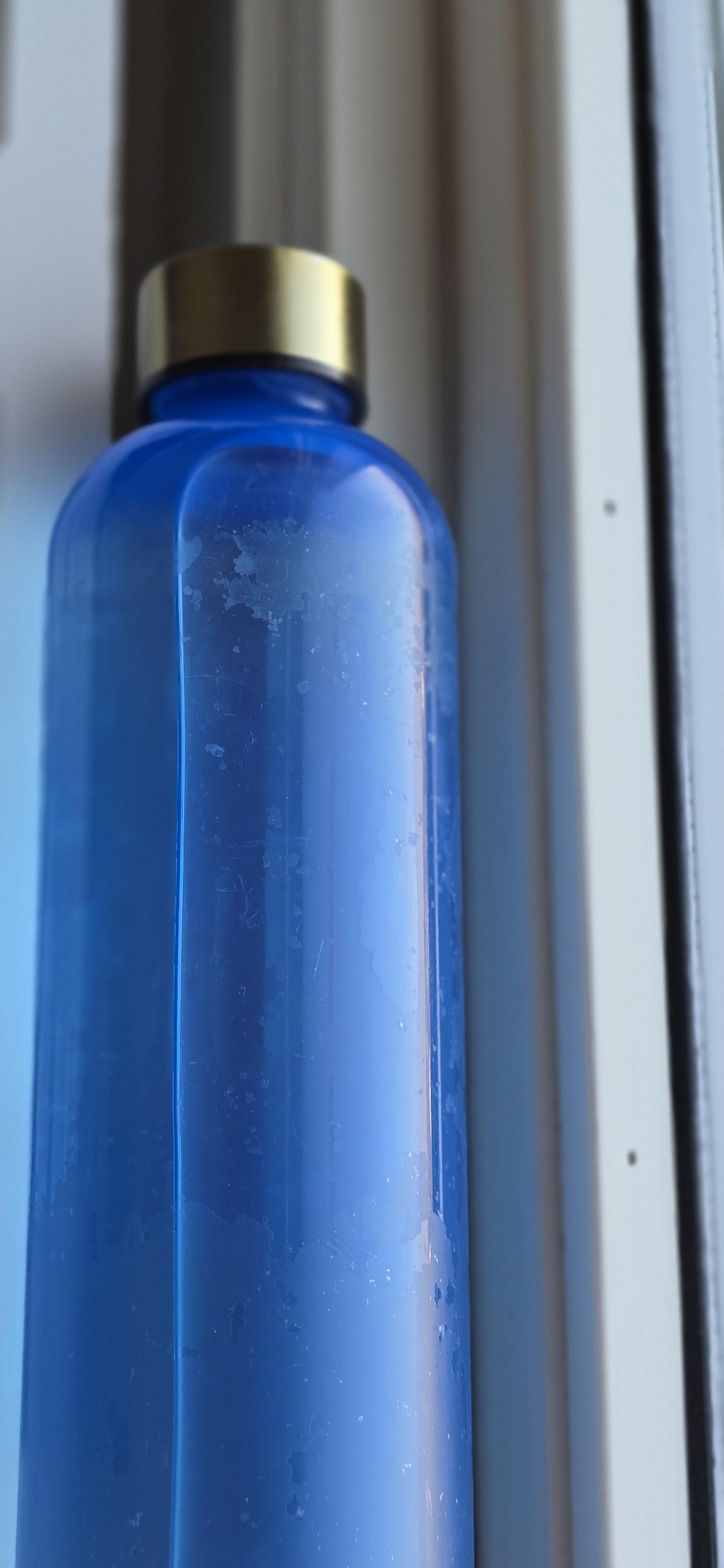bottle: (8, 169, 624, 1568)
